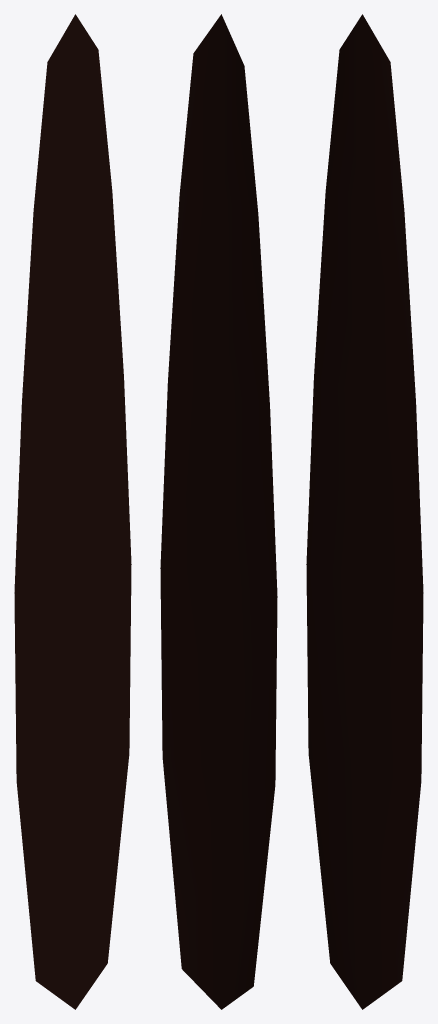
File: pheasant_feather_flight_primary_008.obj
3 views of the same model, side by side, from view 1: azimuth 30°, elevation 25°; view 2: azimuth 150°, elevation 25°; view 3: azimuth 330°, elevation 25° (orthographic).
Visible parts, largest first — view 1: feather_flight_primary_008; view 2: feather_flight_primary_008; view 3: feather_flight_primary_008.
Boxes of the visible parts, x1,y1,x2,y2 form: feather_flight_primary_008: (14,14,131,1009); feather_flight_primary_008: (160,14,277,1009); feather_flight_primary_008: (306,14,423,1009).
Size of the model in its own units: 0.0177 by 0.1436 by 0.000992.
